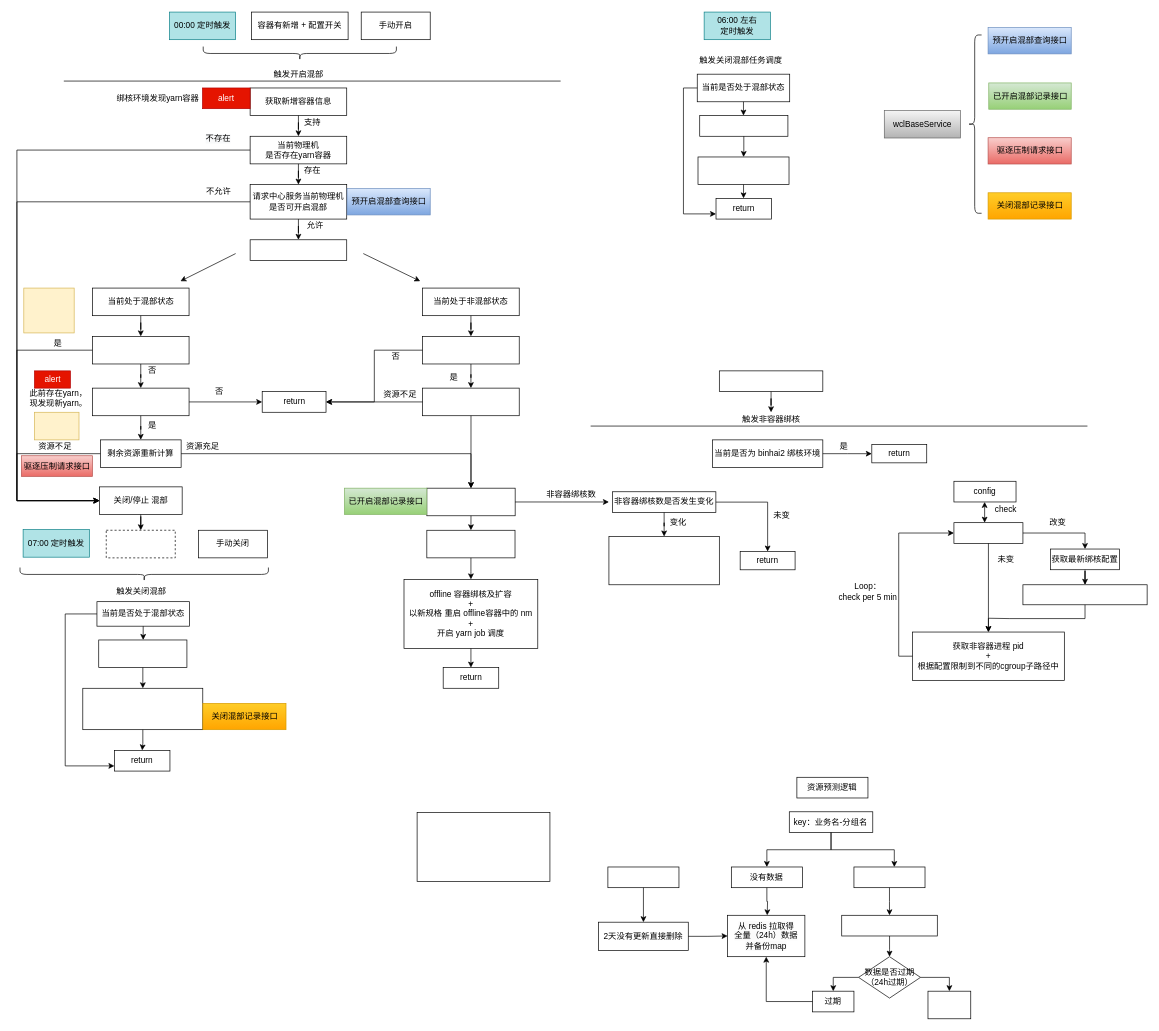
Image size: 1159x1031. Some labels were removed from this diagram. The shapes that lost their labels are listed below. From the top down, each one's box as (x1, y1, x2, y2) in pixels, then its label:
(699, 115, 788, 136): 关闭 yarn 任务调度
(697, 156, 789, 185): 以 0 vcores 1 cpulimit 启动 nm
(249, 239, 347, 260): 判断当前混部状态
(23, 287, 74, 333): alert 混部中心日报已覆盖此case
(92, 336, 189, 364): 混部时间外
(422, 336, 519, 364): 处于混部时间窗口
(719, 370, 823, 392): wclAgentHybrid 启动
(92, 387, 189, 416): 新增online容器
(422, 387, 519, 416): 剩余资源计算
(34, 412, 79, 440): alert 后期和驱逐压制配置
(426, 487, 515, 516): 开启 混部
(106, 530, 175, 558): 异常情况
(426, 530, 515, 558): online 容器绑核
(953, 522, 1023, 543): 配置是否改变
(608, 536, 719, 585): goroutine： 对非容器进程重新绑核 + 07:00 恢复原绑核状态
(1022, 584, 1147, 605): 初始化 cpu& cpuset cgroup 配置
(98, 639, 187, 668): 恢复 online 容器绑核
(82, 688, 203, 730): 恢复 offline 容器绑核及缩容 + kill yarn job
(416, 812, 550, 881): 目标：redis压力随全天混部节点数增加而增大 压力来源： 1.资源预测的高频触发 2.每个容器都要访问一次
(607, 866, 679, 888): 每天凌晨
(853, 866, 925, 888): 有数据
(841, 915, 937, 936): 直接从 map 获取
(927, 990, 971, 1019): 没过期 直接使用
